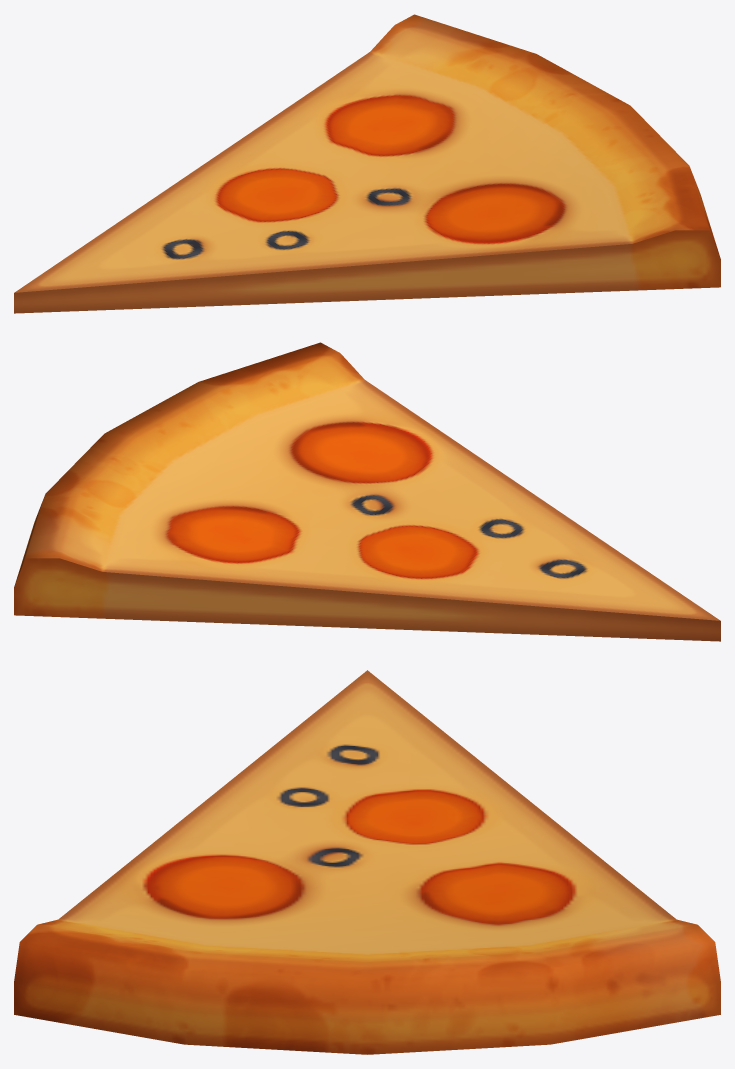
The model's file is CafeFood01_4.FBX.
3 renders of one model, top to bottom at view 1: azimuth 30°, elevation 25°; view 2: azimuth 150°, elevation 25°; view 3: azimuth 270°, elevation 25°, orthographic. The views are drawn at different scales.
Visible parts, largest first — view 1: CafeFood01_4; view 2: CafeFood01_4; view 3: CafeFood01_4.
Part boxes in pixels (bbox=[...]): CafeFood01_4: bbox=[14, 14, 720, 313]; CafeFood01_4: bbox=[14, 342, 720, 641]; CafeFood01_4: bbox=[14, 670, 720, 1054].
Size of what is drawn, in the model's own units: 0.2994 by 0.0269 by 0.2482.
